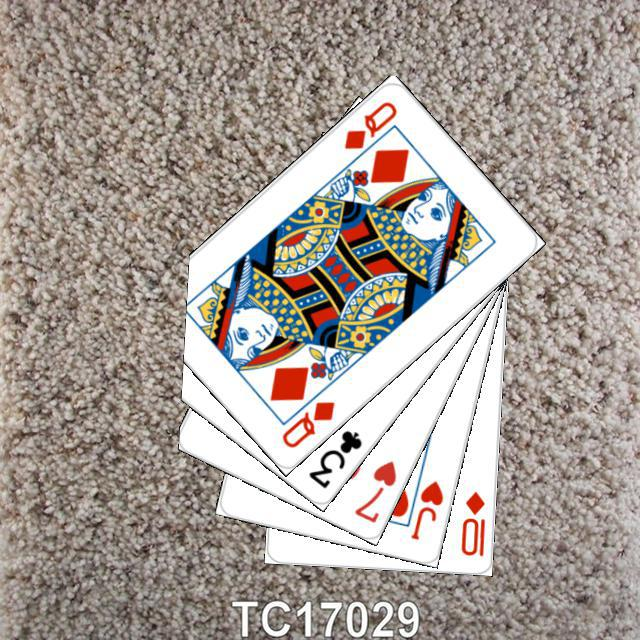10d: (456, 486, 487, 558)
3c: (303, 425, 364, 491)
7h: (349, 455, 398, 525)
Jh: (406, 475, 445, 542)
Qd: (339, 96, 399, 152), (277, 396, 337, 450)
